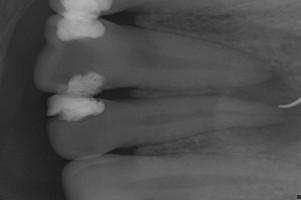Furcation Involvement: (228, 66, 301, 152)
